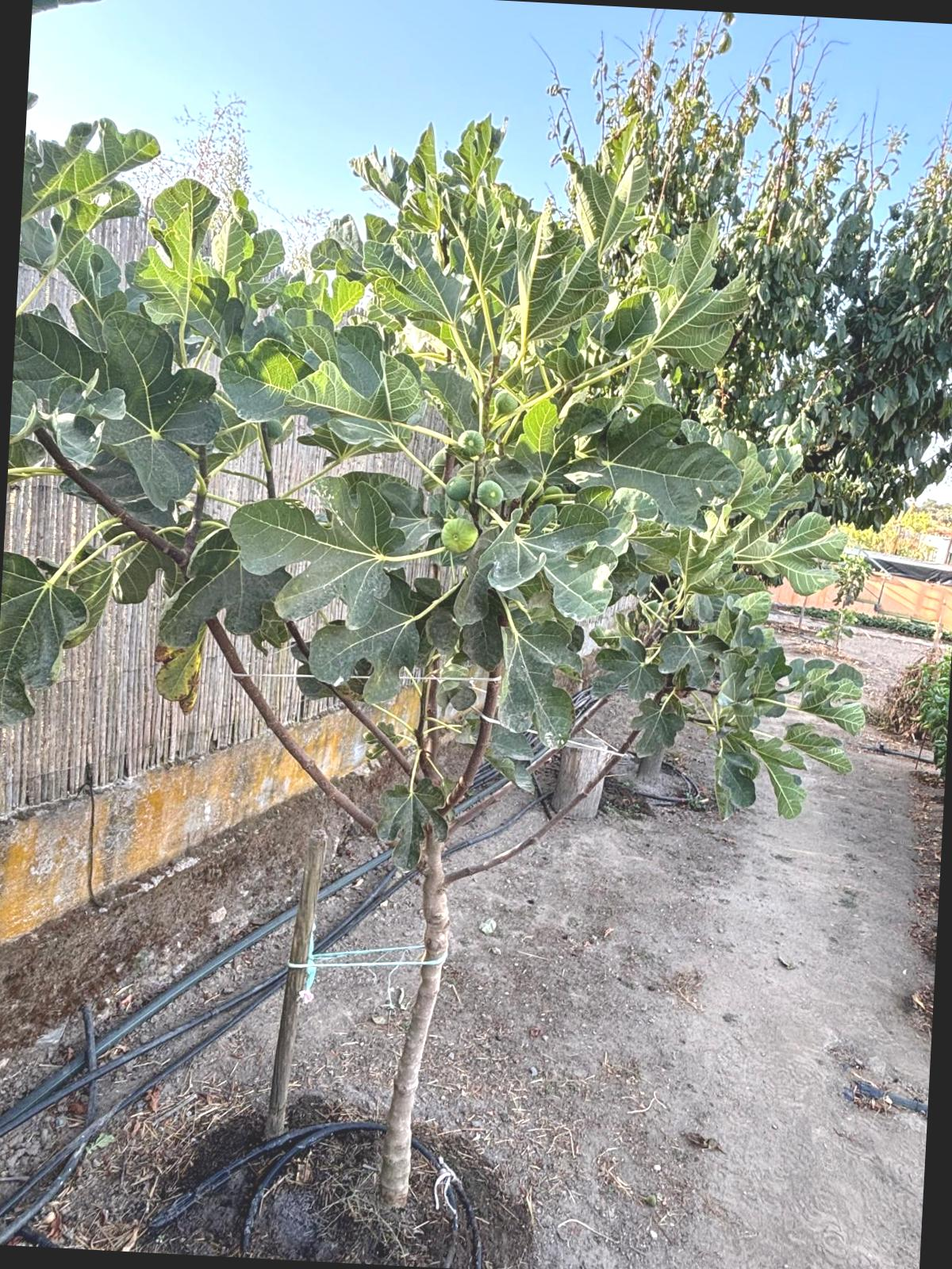higera: (84, 234, 756, 1230)
